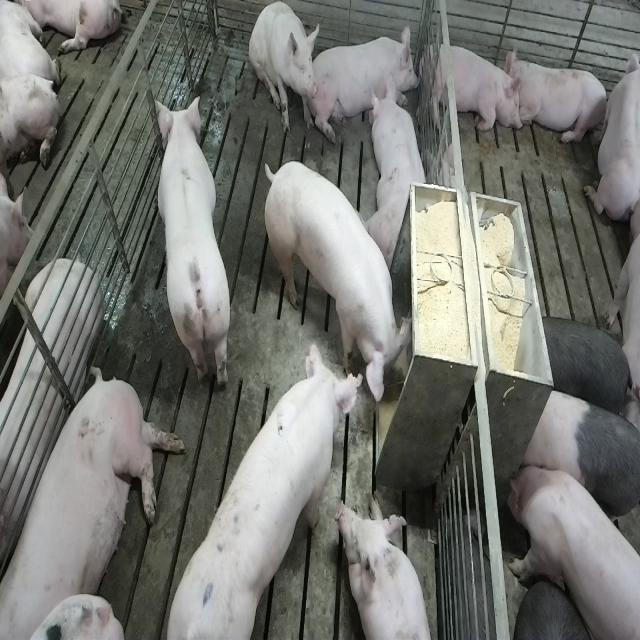Lateral_lying: (4, 362, 188, 636), (0, 257, 103, 578)
Sitting: (249, 2, 319, 136)
Standing: (161, 330, 366, 636), (262, 163, 410, 408), (504, 460, 638, 640), (152, 99, 232, 399), (518, 386, 638, 534), (535, 313, 636, 421)
Sternal_lying: (338, 497, 436, 640), (314, 22, 424, 139), (370, 85, 430, 268), (584, 39, 637, 226), (508, 52, 610, 149), (425, 38, 521, 138)
